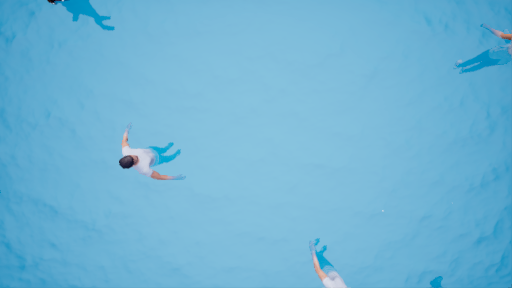person: (102, 122, 191, 184), (301, 231, 360, 288), (471, 21, 512, 68)
